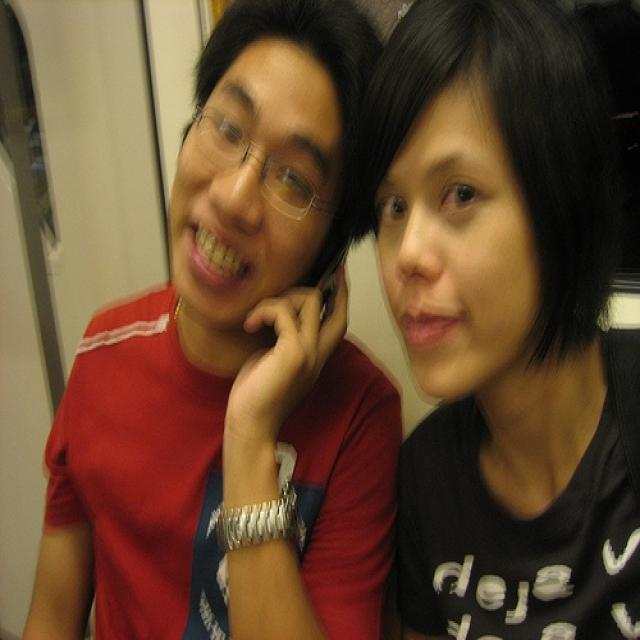person: (15, 5, 390, 640), (354, 5, 640, 640)
